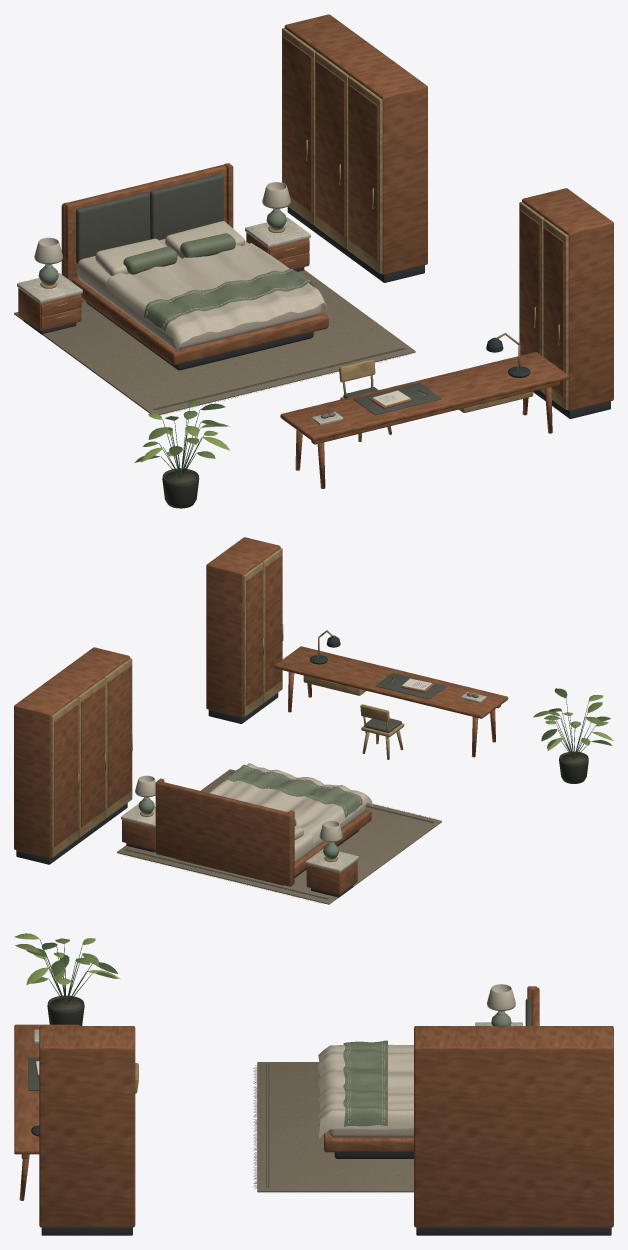
The model's file is private.glb.
3 views of the same model, one above another, from view 1: azimuth 30°, elevation 25°; view 2: azimuth 150°, elevation 25°; view 3: azimuth 270°, elevation 25° (orthographic). The views are drawn at different scales.
Parts seen in each view (by area): view 1: private - M03 Smoked walnut, private - M08 Carpet, private - M08 Woven flax, private - M08 Smoked linen, private - M03 Pale ash, private - M08 Olive throw, private - M06 Blackened steel, private - M09 Travertine, private - Dark ceramic, private - Leaf 4, private - Matte celadon; view 2: private - M03 Smoked walnut, private - M08 Carpet, private - M03 Pale ash, private - M08 Woven flax, private - M08 Olive throw, private - M06 Blackened steel, private - M08 Smoked linen, private - M09 Travertine, private - Leaf 4, private - Dark ceramic; view 3: private - M03 Smoked walnut, private - M08 Carpet, private - M08 Woven flax, private - M08 Olive throw, private - M06 Blackened steel, private - M08 Smoked linen, private - Leaf 4, private - Dark ceramic.
Boxes of the visible parts, x1,y1,x2,y2 form: private - M03 Smoked walnut: (18,14,613,488); private - M08 Carpet: (14,269,415,415); private - M08 Woven flax: (34,182,330,352); private - M08 Smoked linen: (76,174,441,415); private - M03 Pale ash: (282,28,568,441); private - M08 Olive throw: (123,233,314,330); private - M06 Blackened steel: (23,140,610,418); private - M09 Travertine: (17,217,343,425); private - Dark ceramic: (162,468,199,508); private - Leaf 4: (134,403,225,477); private - Matte celadon: (38,208,286,285); private - M03 Smoked walnut: (14,537,508,894); private - M08 Carpet: (117,769,441,904); private - M03 Pale ash: (50,548,404,857); private - M08 Woven flax: (135,763,372,862); private - M08 Olive throw: (225,765,362,825); private - M06 Blackened steel: (16,624,393,897); private - M08 Smoked linen: (125,673,446,899); private - M09 Travertine: (121,692,486,872); private - Leaf 4: (541,688,612,759); private - Dark ceramic: (559,751,588,783); private - M03 Smoked walnut: (14,986,613,1227); private - M08 Carpet: (253,1062,413,1192); private - M08 Woven flax: (318,984,515,1138); private - M08 Olive throw: (343,1040,387,1126); private - M06 Blackened steel: (31,1125,611,1235); private - M08 Smoked linen: (28,998,531,1187); private - Leaf 4: (39,939,118,1004); private - Dark ceramic: (47,995,84,1025).
Size of the model in its own units: 6.92 by 2.65 by 7.62.
Materials: 23 (7 with a texture image).
